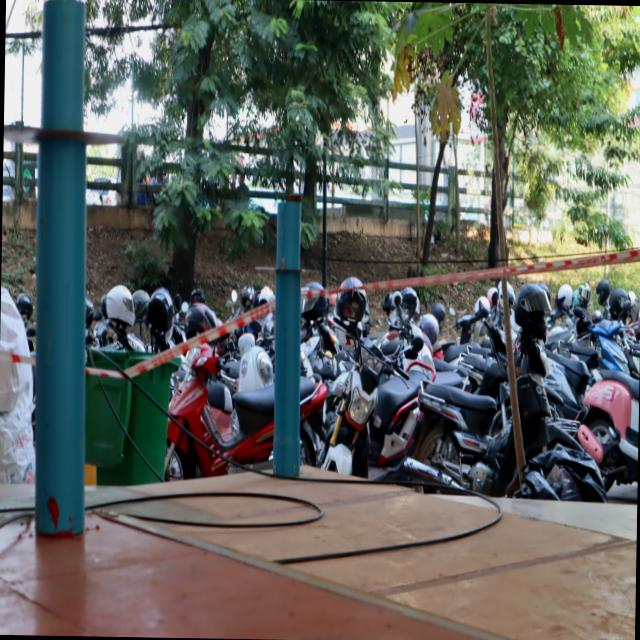pole: (6, 0, 132, 229), (250, 191, 322, 335)
